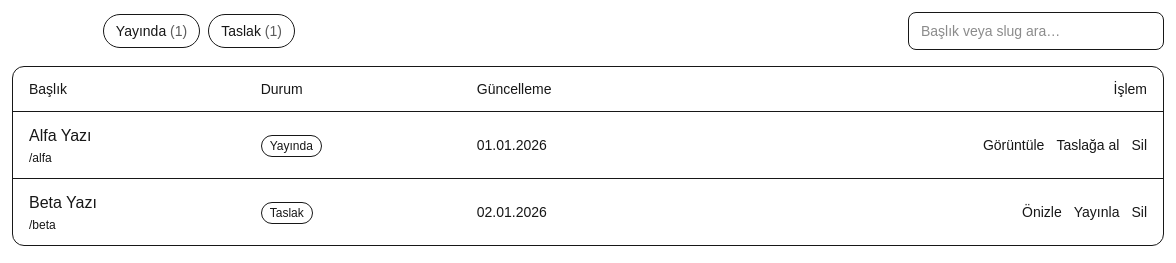
Test case: PostsTable › başlık aramasına göre filtreler
Type "alfa" into the search field with placeholder "Başlık veya slug ara…" at point(1036, 31), box 908,12 -> 1164,50
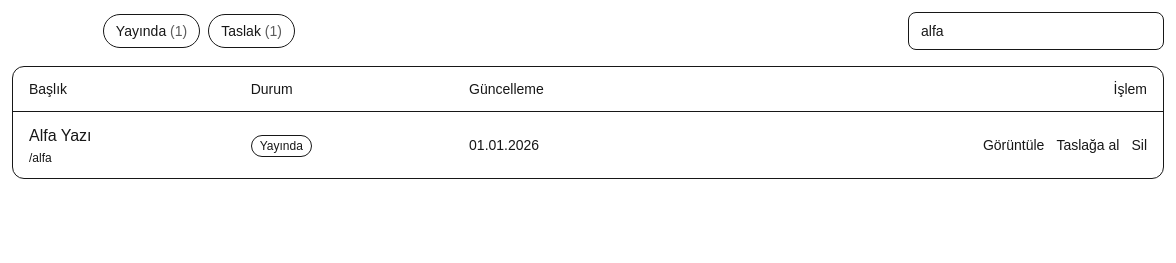
Expected: the link "Alfa Yazı" is shown, 29,127 -> 92,144
Result: the link "Beta Yazı" is gone
